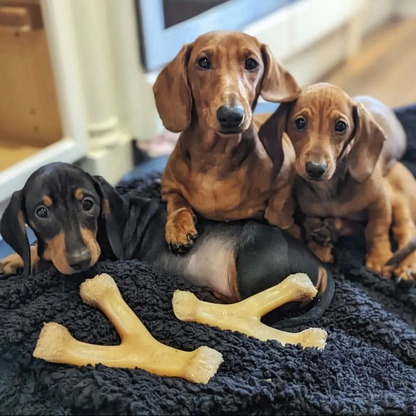dachshund: (144, 39, 285, 247), (275, 71, 408, 291), (18, 159, 159, 291)
